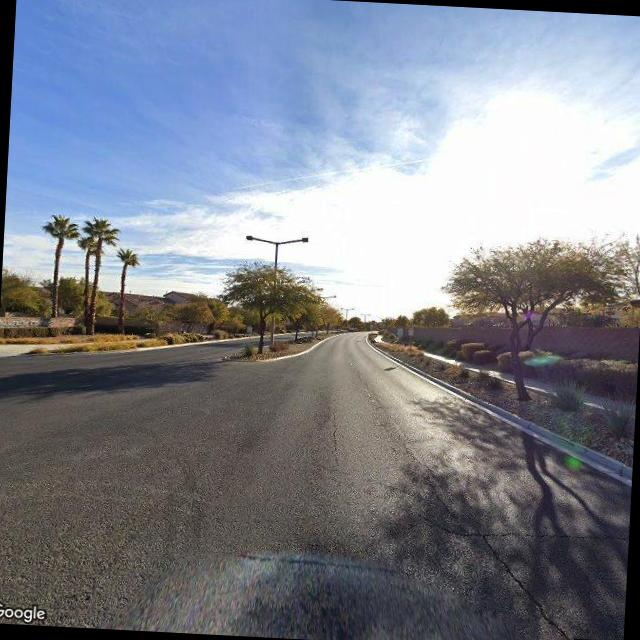crack: (478, 533, 578, 640), (476, 522, 628, 550), (324, 402, 343, 457)
